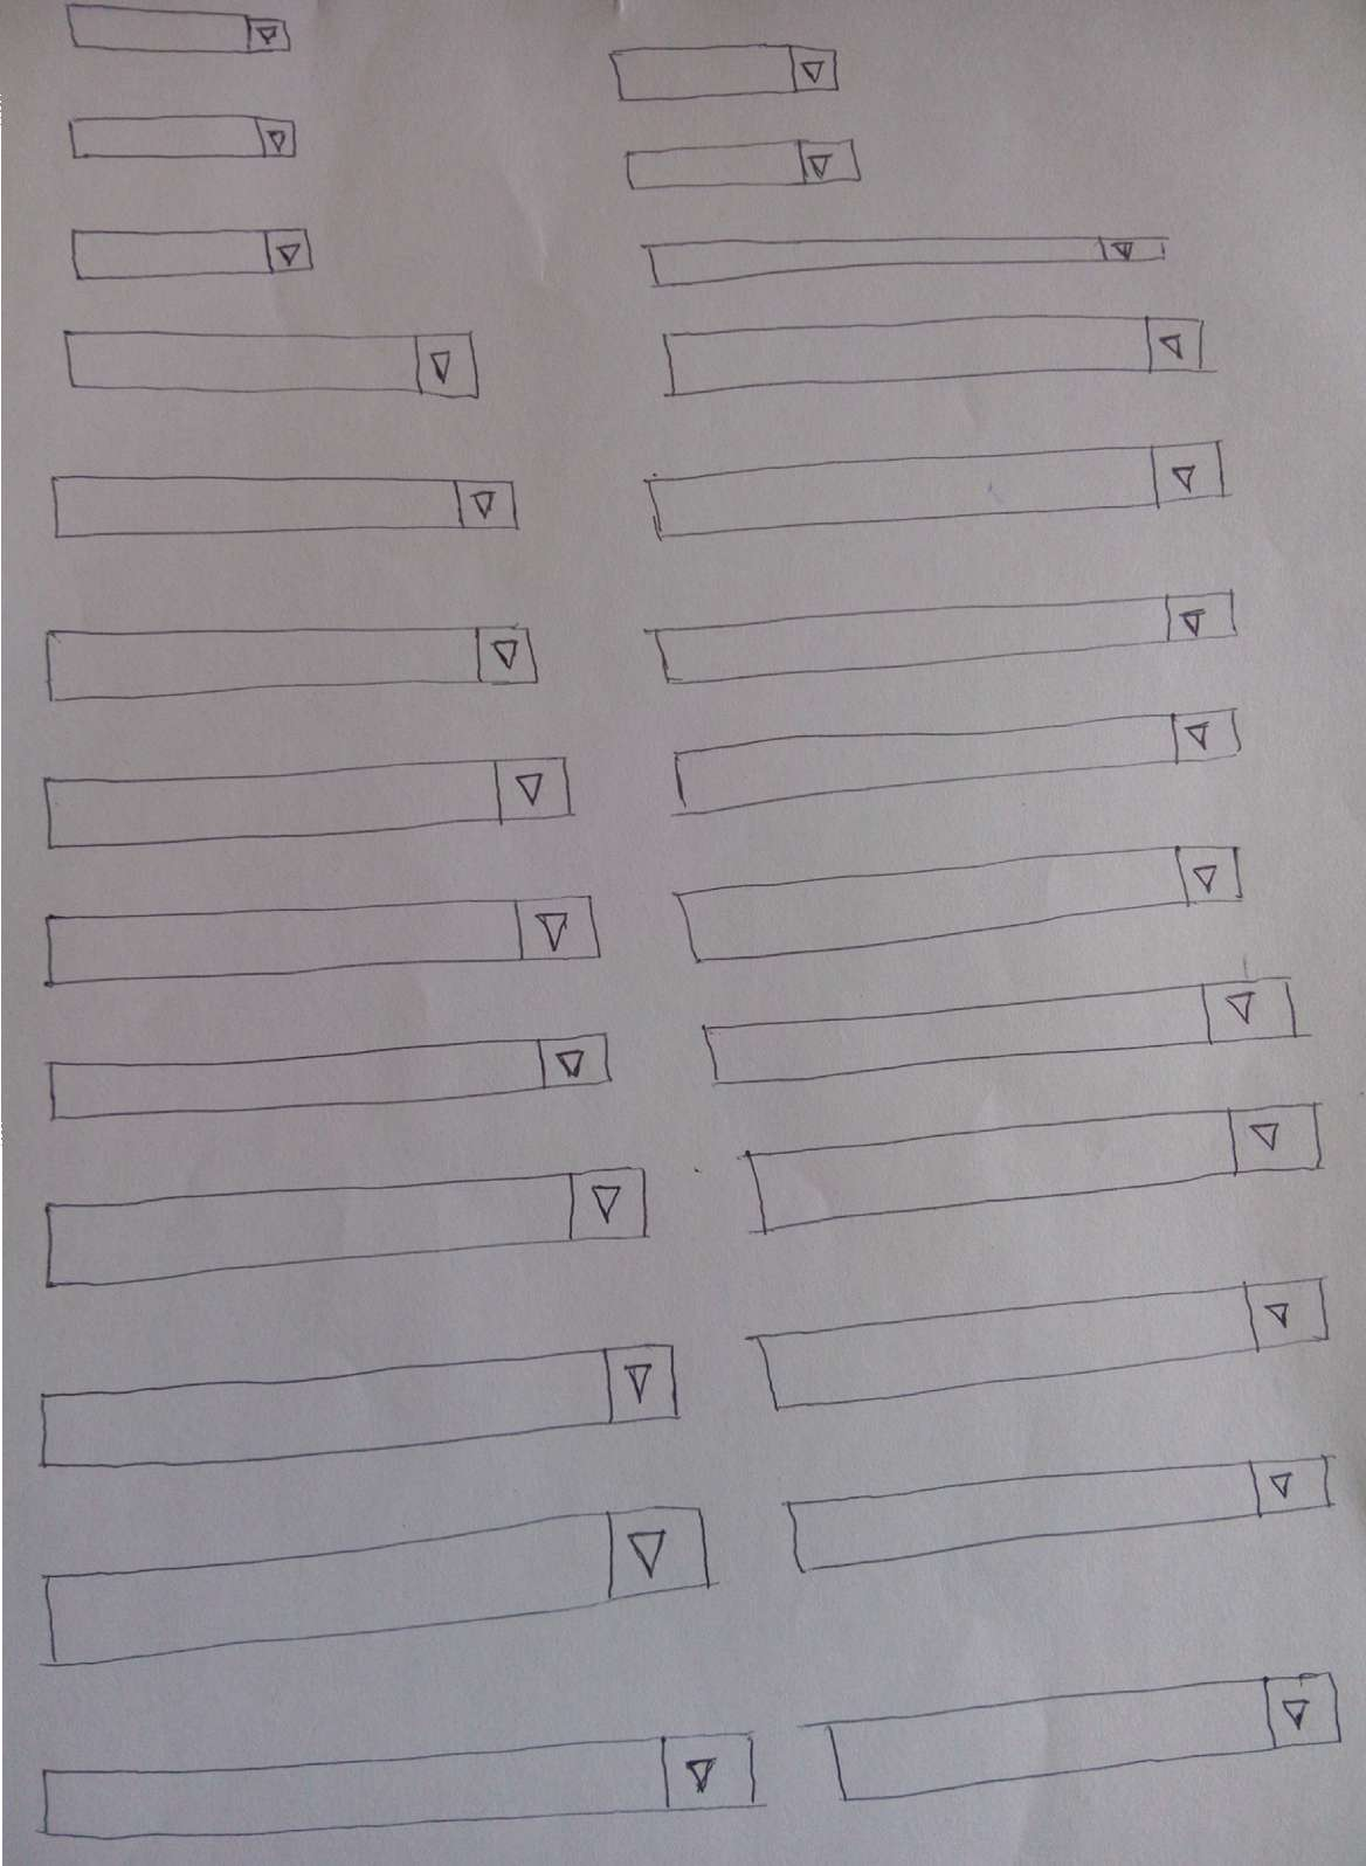Select: (42, 1502, 713, 1676), (38, 1342, 678, 1472), (747, 1273, 1331, 1413), (39, 1728, 758, 1841), (740, 1100, 1323, 1237), (43, 1163, 650, 1292), (818, 1668, 1344, 1807), (668, 840, 1246, 966), (700, 972, 1304, 1088), (785, 1455, 1336, 1575), (672, 706, 1244, 820), (639, 435, 1230, 543), (650, 587, 1239, 688), (46, 1030, 616, 1126), (42, 892, 606, 987), (41, 753, 574, 852), (661, 311, 1210, 398), (43, 624, 540, 703), (51, 472, 520, 539), (640, 233, 1169, 290), (61, 329, 482, 398), (608, 42, 842, 103), (70, 227, 317, 281), (67, 1, 294, 57), (624, 136, 863, 188), (67, 112, 298, 162)
